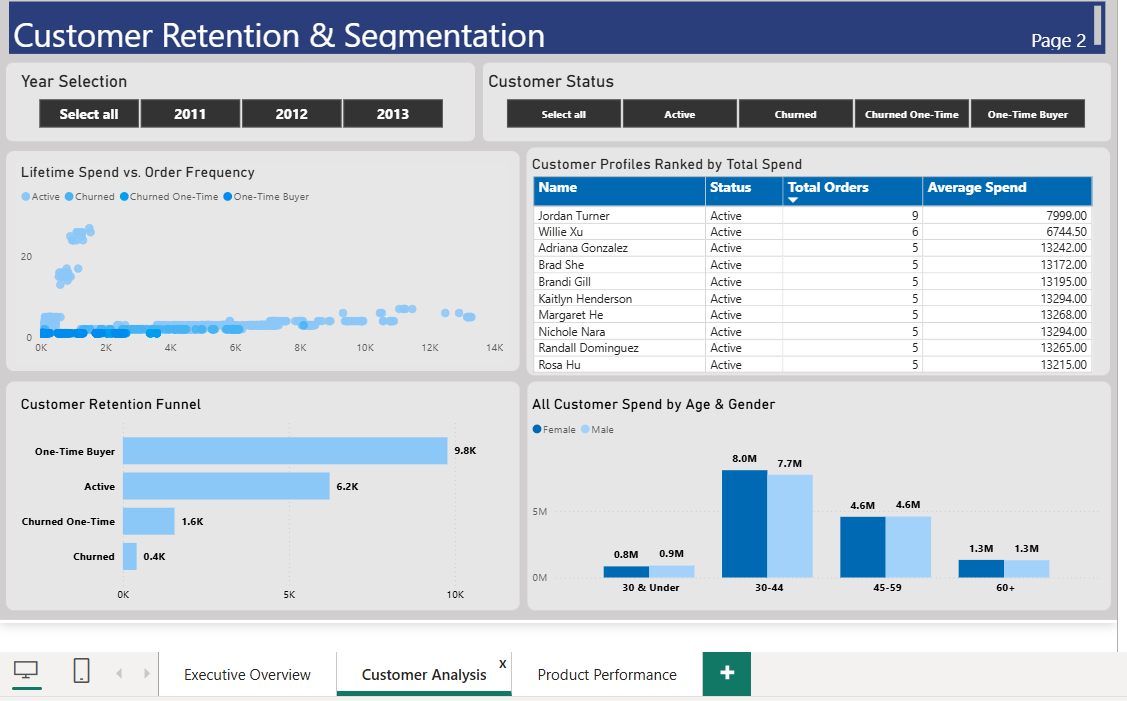

Layout of this report page (visuals, bound fields, positions):
{"tool":"powerbi","page":{"name":"Customer Analysis","canvas":[1280,720],"ordinal":1},"visuals":[{"type":"scatterChart","title":"Lifetime Spend vs. Order Frequency","fields":{"X":["Customer report.total_spend"],"Category":["Customer report.customer_key"],"Y":["Sum(Customer report.total_orders)"],"Series":["Customer report.customer_status"]},"box":[20,193.3,562.2,230],"z":0},{"type":"clusteredBarChart","title":"Customer Retention Funnel","fields":{"Category":["Customer report.customer_status"],"Y":["Count(Customer report.customer_key)"]},"box":[20,460,545.6,246.7],"z":1000},{"type":"tableEx","title":"Customer Profiles Ranked by Total Spend","fields":{"Values":["Customer report.Name","Customer report.customer_status","Sum(Customer report.total_orders)","Avg(Customer report.total_spend)"]},"box":[605.6,177.8,662.2,262.2],"z":2000},{"type":"clusteredColumnChart","fields":{"Category":["Customer report.age_group"],"Y":["Sum(Customer report.total_spend)"],"Series":["Customer report.gender"]},"box":[605.6,460,661.1,238.9],"z":3000},{"type":"slicer","title":"Customer Status","fields":{"Values":["Customer report.customer_status"]},"box":[555.6,88.9,712.2,71.1],"z":4000},{"type":"slicer","title":"Year Selection","fields":{"Values":["_Date.Year"]},"box":[20,88.9,512.2,71.1],"z":5000},{"type":"textbox","box":[11.1,8.9,1255.6,60],"z":6000}]}

Visuals, with their boxes on the page's 1280x720 design canvas (x1, y1, x2, y2). These are canvas units, not pixel positions in the 1127x701 screenshot, which may show the page scaled, cropped or inside an application window:
"Lifetime Spend vs. Order Frequency" scatterChart: (left=20, top=193, right=582, bottom=423)
"Customer Retention Funnel" clusteredBarChart: (left=20, top=460, right=566, bottom=707)
"Customer Profiles Ranked by Total Spend" tableEx: (left=606, top=178, right=1268, bottom=440)
clusteredColumnChart - Customer report.age_group x Sum(Customer report.total_spend): (left=606, top=460, right=1267, bottom=699)
"Customer Status" slicer: (left=556, top=89, right=1268, bottom=160)
"Year Selection" slicer: (left=20, top=89, right=532, bottom=160)
textbox: (left=11, top=9, right=1267, bottom=69)
